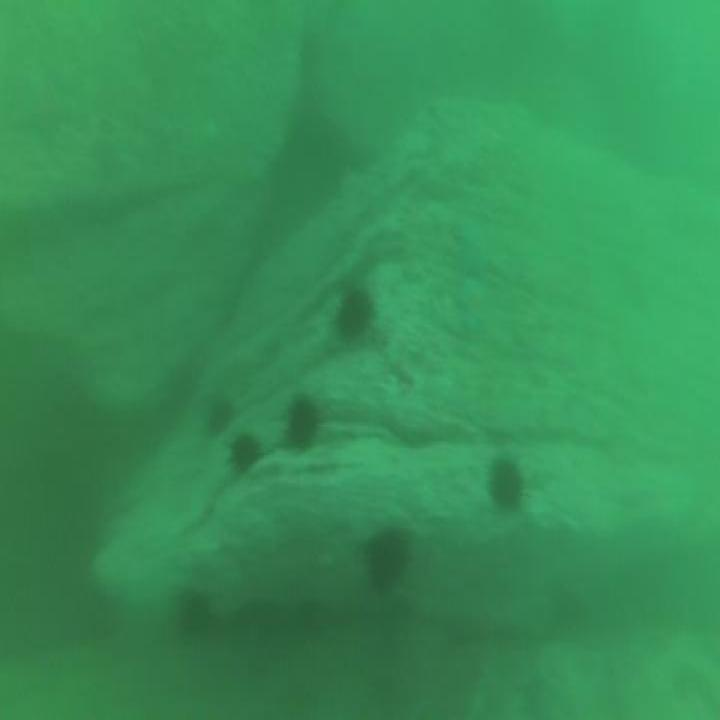echinus: (369, 530, 405, 599), (487, 457, 518, 507), (288, 393, 318, 443), (339, 293, 369, 338), (177, 594, 208, 636), (231, 435, 257, 473)
starfish: (455, 277, 493, 331), (455, 229, 487, 276)
